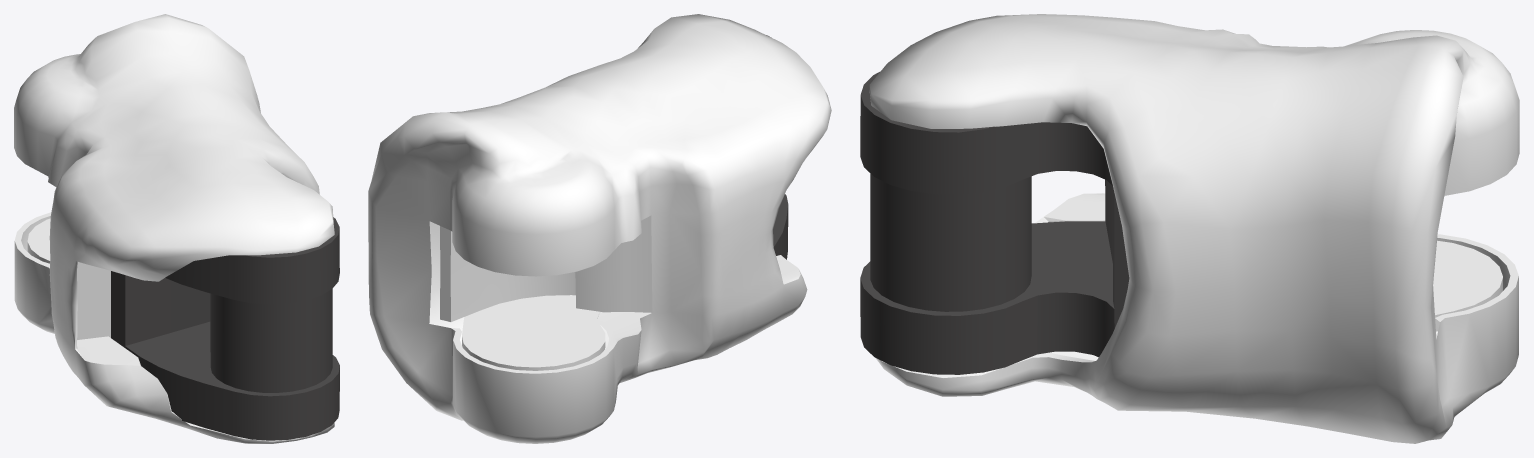
Rendered from LHipPitch.dae.
3 views of the same model, side by side, from view 1: azimuth 30°, elevation 25°; view 2: azimuth 150°, elevation 25°; view 3: azimuth 270°, elevation 25° (orthographic). The views are drawn at different scales.
Visible parts, largest first — view 1: LHipPitch; view 2: LHipPitch; view 3: LHipPitch.
Part boxes in pixels (x1,y1,x2,y2): LHipPitch: (14,14,339,443); LHipPitch: (368,14,831,443); LHipPitch: (860,14,1519,443).
Bounding box in the file's own units: 0.9585 × 0.8955 × 1.43.
Materials: 1 (1 with a texture image).
